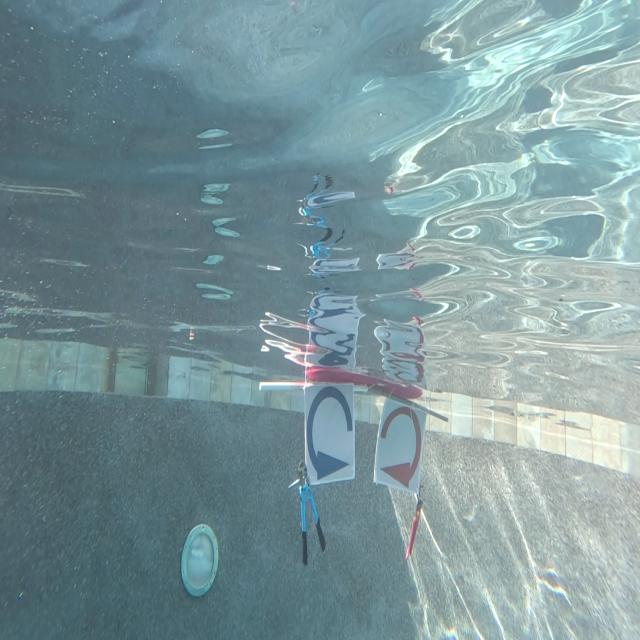blue_side: (302, 390, 357, 488)
red_side: (374, 400, 420, 490)
